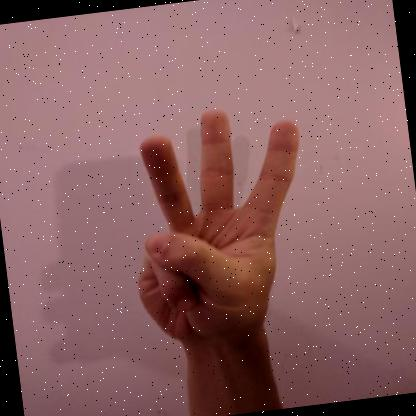W: (138, 109, 299, 344)
